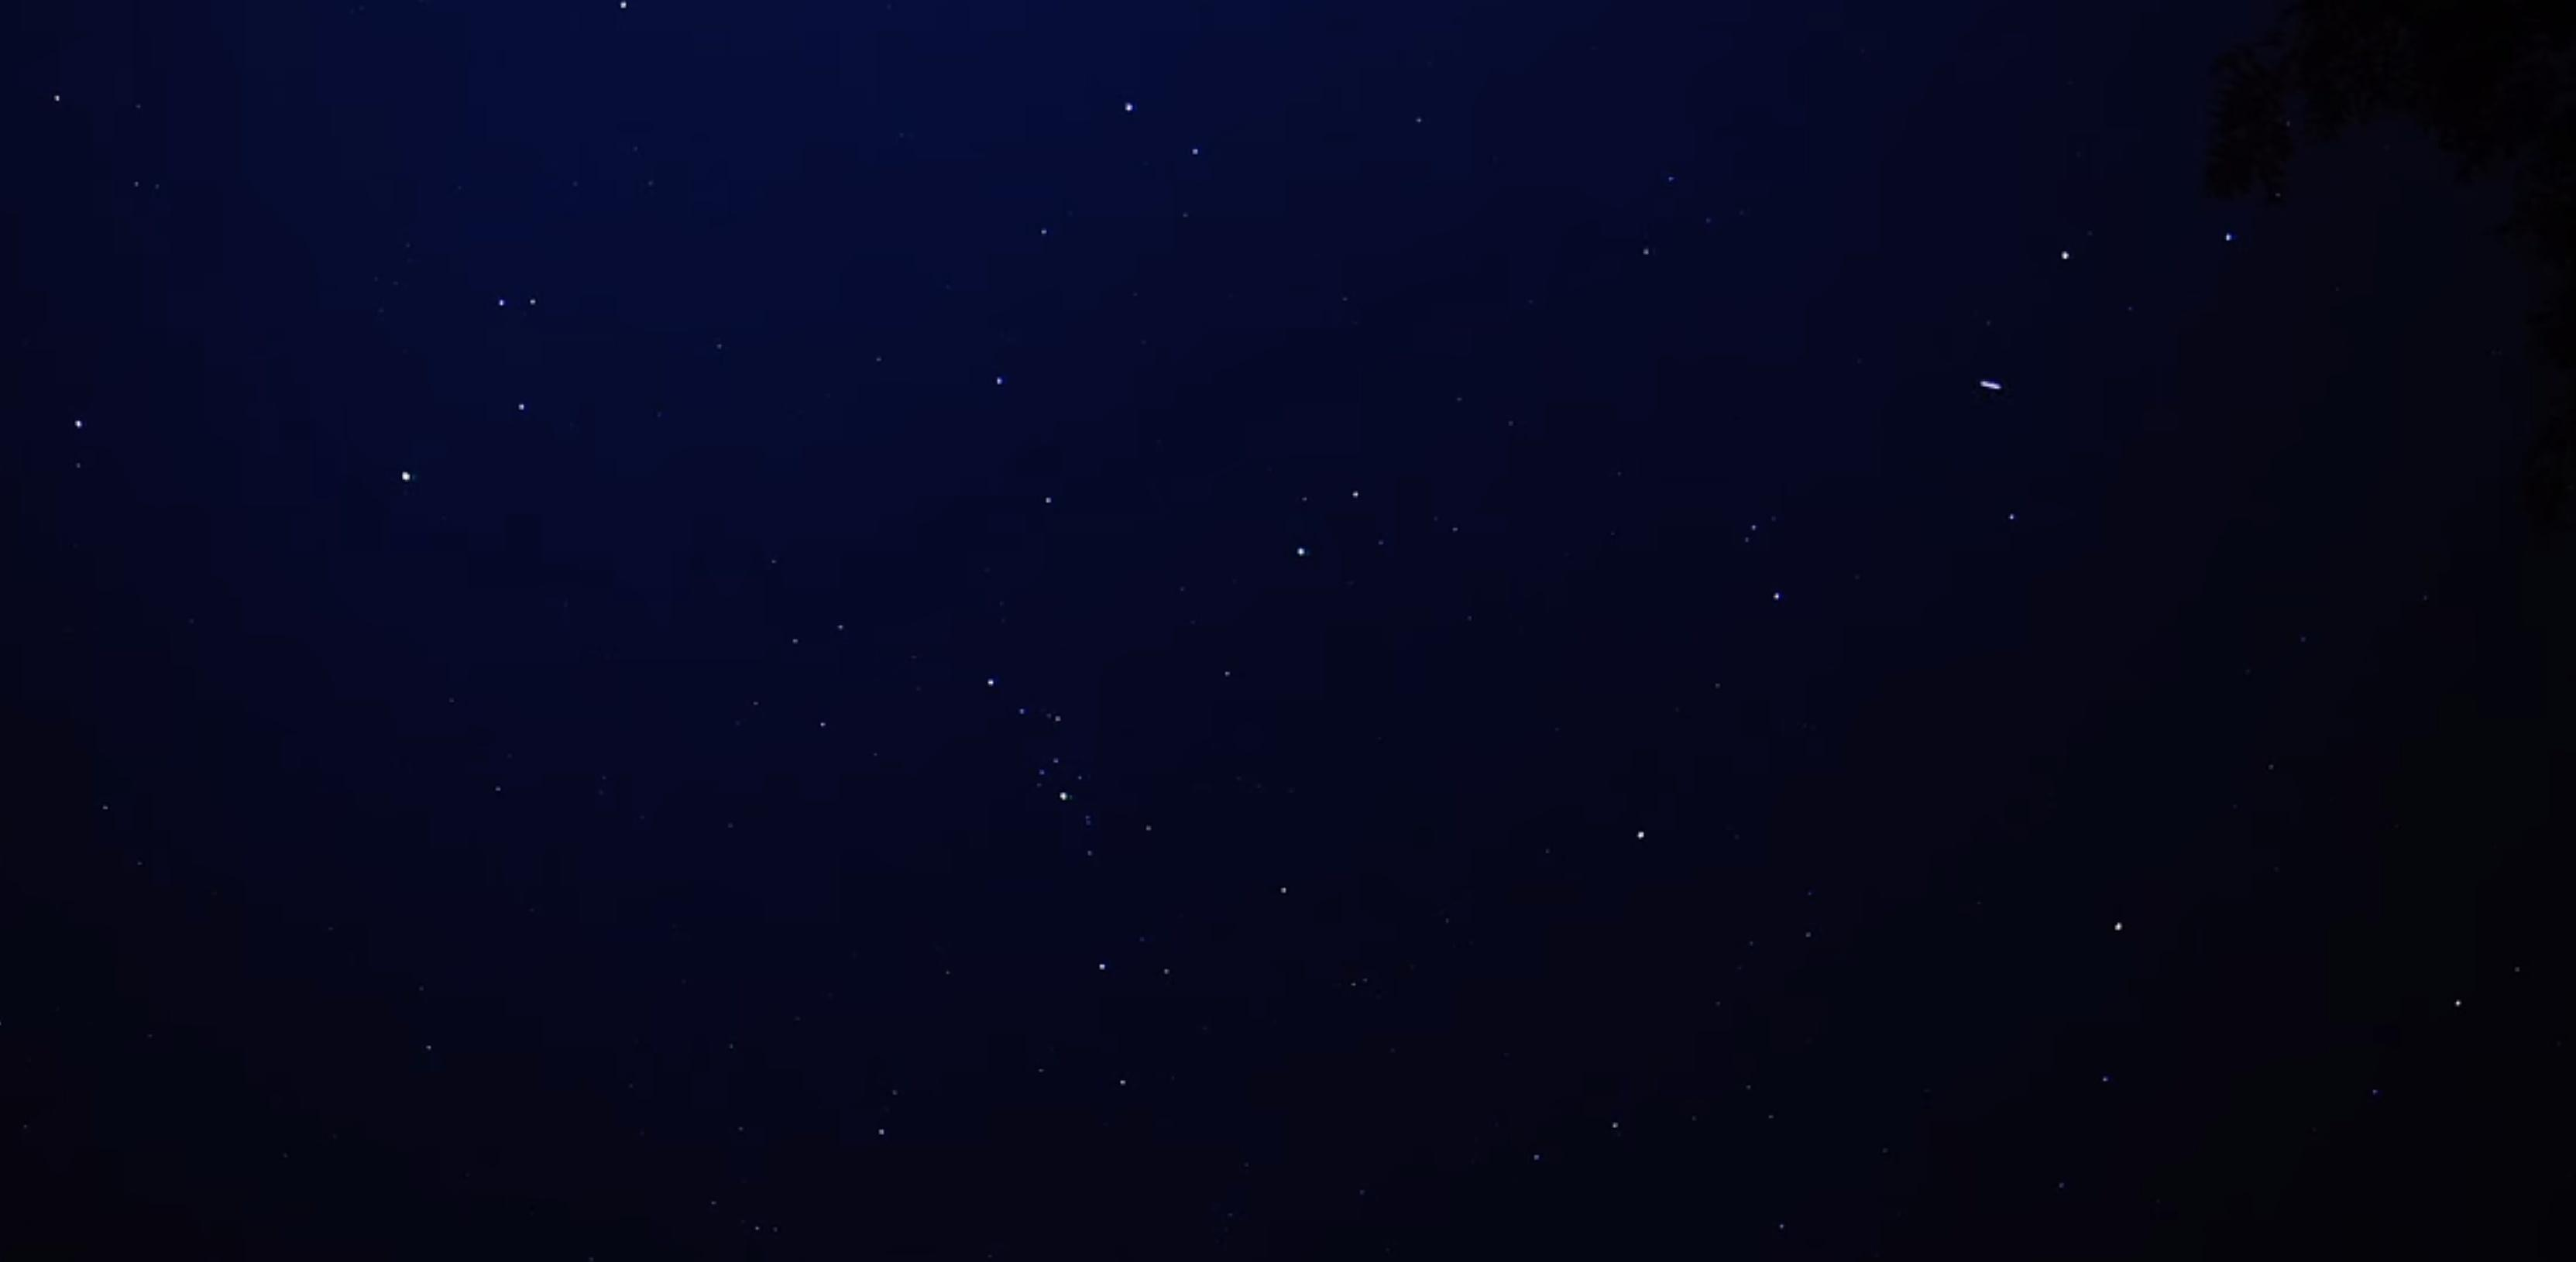meteorite: (1953, 362, 2029, 404)
